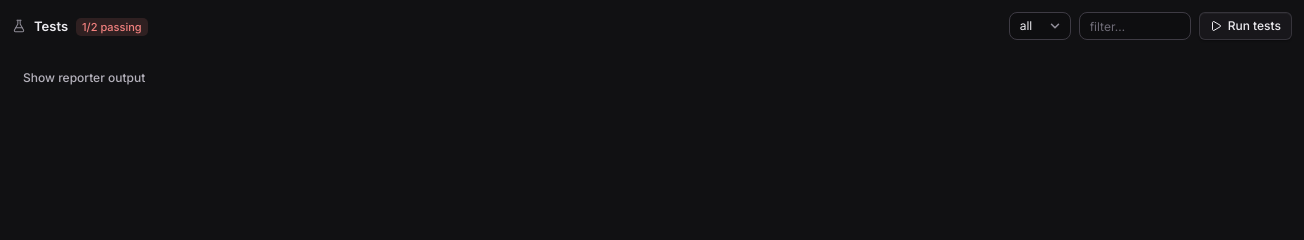
Test: ResultsPanel › shows the reporter output on demand
This screenshot has width=1304, height=240.
Step 1. Click the button with test id "toggle-stdout" → x=84, y=78, box 12,64 -> 156,92
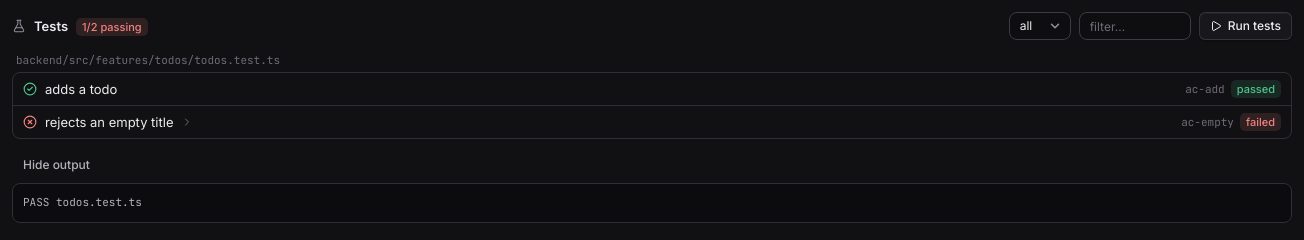
Check: the text with test id "test-stdout" reads "PASS todos.test.ts", box 23,195 -> 142,209
